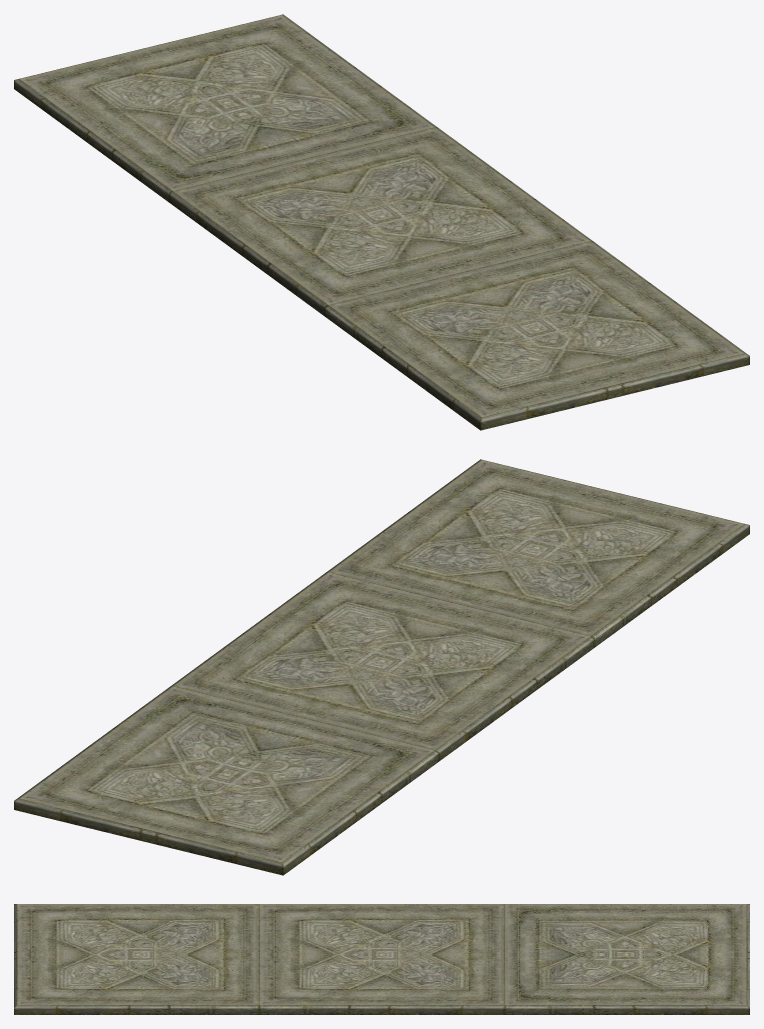
Rendered from secret_floor_02.glb.
The picture shows the model from 3 angles, top to bottom: view 1: azimuth 30°, elevation 25°; view 2: azimuth 150°, elevation 25°; view 3: azimuth 270°, elevation 25°; orthographic projection. The views are drawn at different scales.
Visible parts, largest first — view 1: secret_Floor_02; view 2: secret_Floor_02; view 3: secret_Floor_02.
Part boxes in pixels (bbox=[...]): secret_Floor_02: bbox=[14, 14, 749, 430]; secret_Floor_02: bbox=[14, 459, 749, 875]; secret_Floor_02: bbox=[14, 904, 749, 1014].
Bounding box in the file's own units: 8 × 0.3042 × 24.
1 material, 1 textured.
